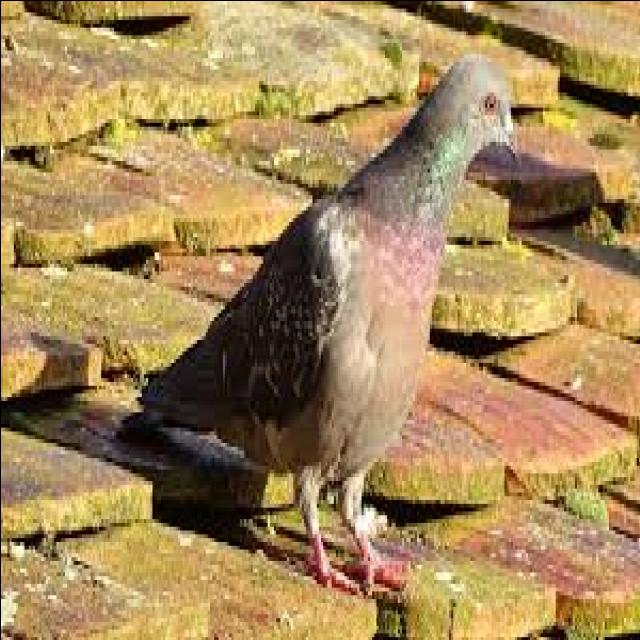pigeon: (129, 51, 524, 555)
